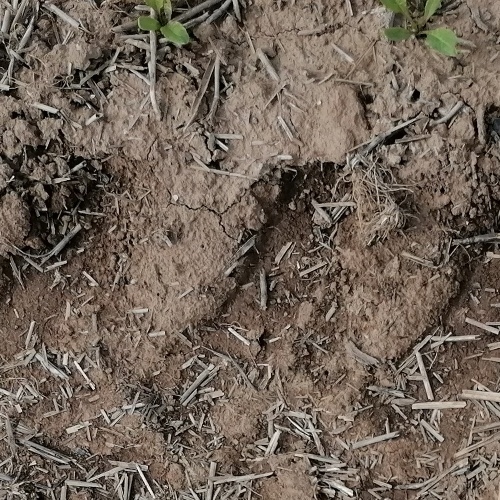beet: (380, 0, 462, 56), (138, 0, 191, 46)
